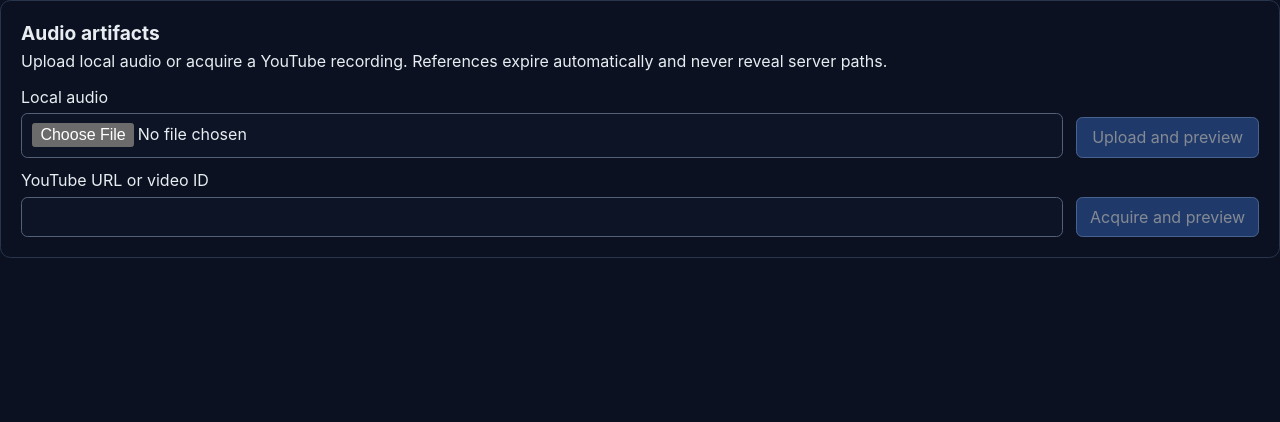
AudioWorkspace › acquires YouTube audio and explicitly deletes the temporary artifact
In the field labelled "YouTube URL or video ID": [542, 217] box [21,197,1063,237], type "dQw4w9WgXcQ"
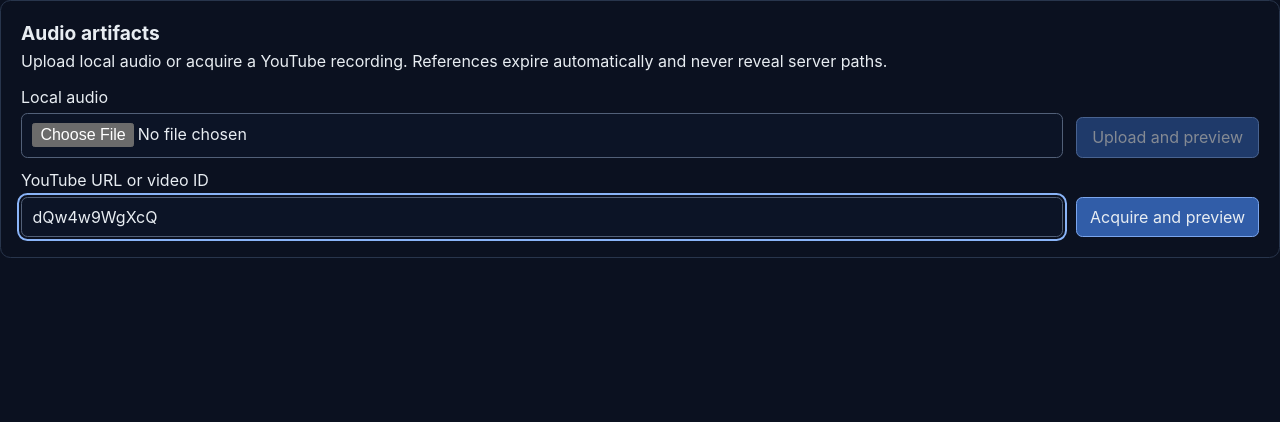
Click the button "Acquire and preview": [1168, 217] box [1076,197,1259,237]
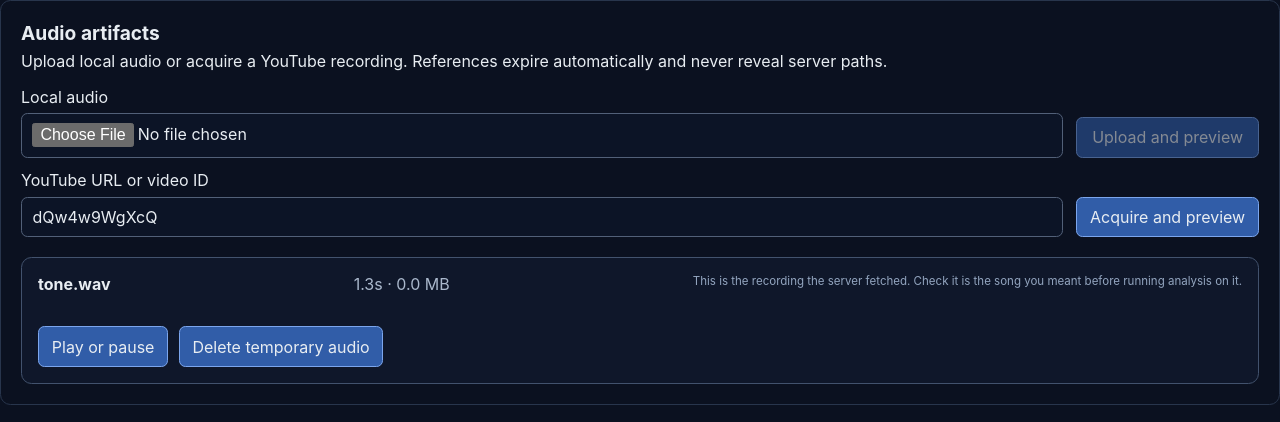
Expected: the text "tone.wav" is shown, [38,274,110,294]
Click the button "Delete temporary audio": [281, 346] box [179,326,384,367]
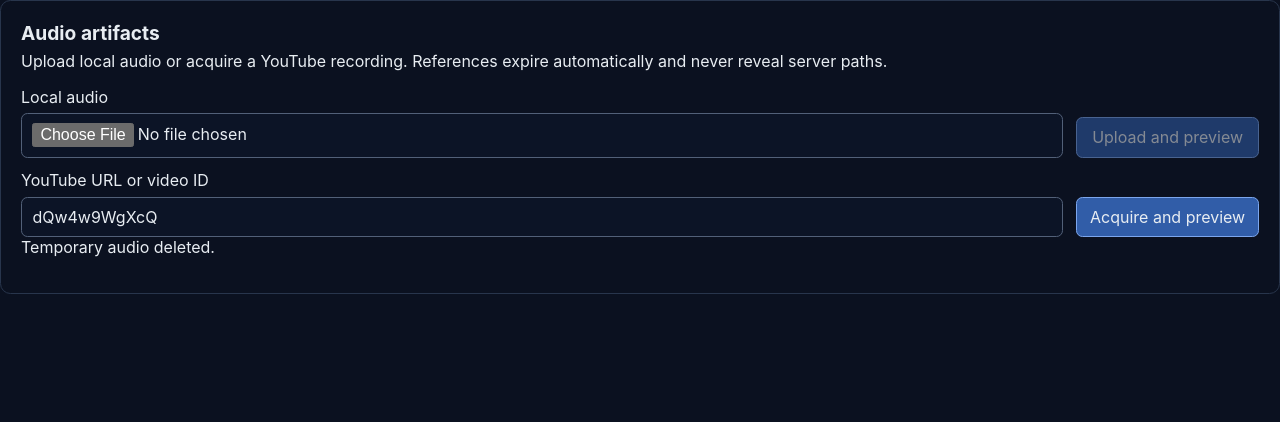
Expected: the message reads "Temporary audio deleted.", [21,237,215,257]
